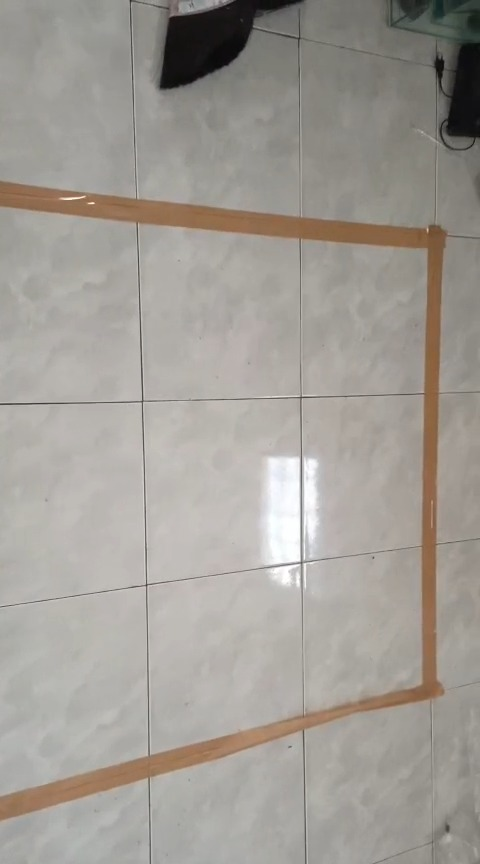floor marking: (0, 181, 444, 818)
